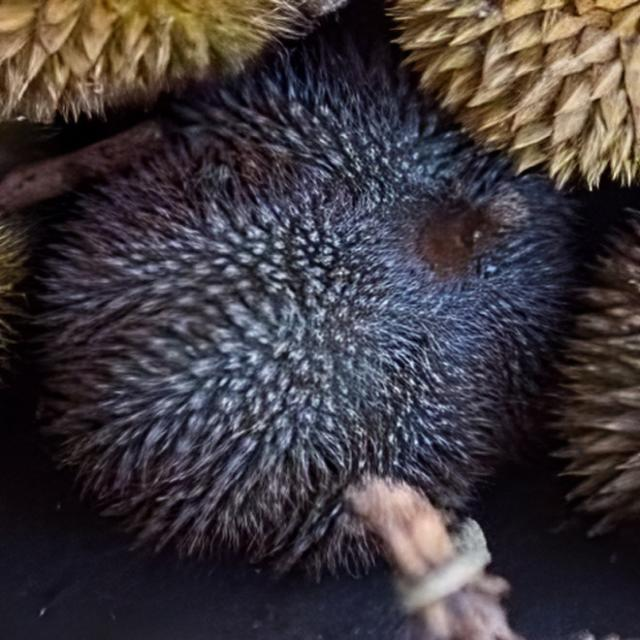defective: (40, 64, 581, 579)
